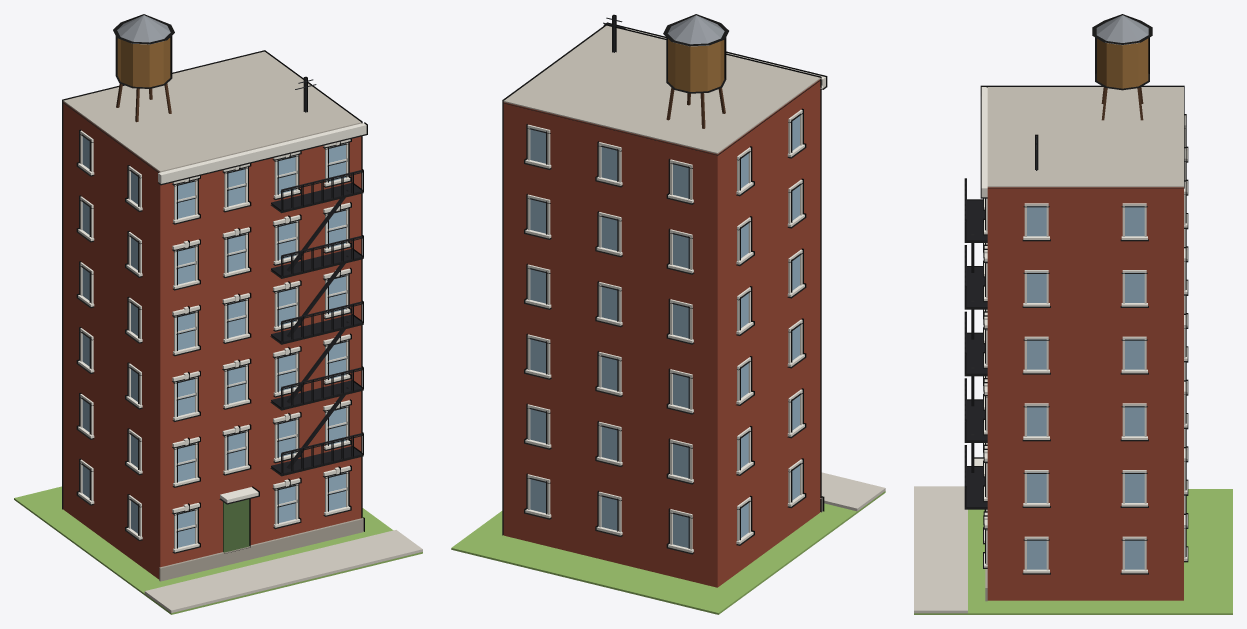
Rendered from Konut_tugla_apt_3.fbx.
The picture shows the model from 3 angles, left to right: view 1: azimuth 30°, elevation 25°; view 2: azimuth 150°, elevation 25°; view 3: azimuth 270°, elevation 25°; orthographic projection. The views are drawn at different scales.
Visible parts, largest first — view 1: Konut_tugla_apt_3; view 2: Konut_tugla_apt_3; view 3: Konut_tugla_apt_3.
Boxes of the visible parts, x1,y1,x2,y2 form: Konut_tugla_apt_3: [14, 14, 422, 614]; Konut_tugla_apt_3: [451, 14, 885, 614]; Konut_tugla_apt_3: [914, 14, 1232, 614].
Size of the model in its own units: 12 by 23.13 by 13.
